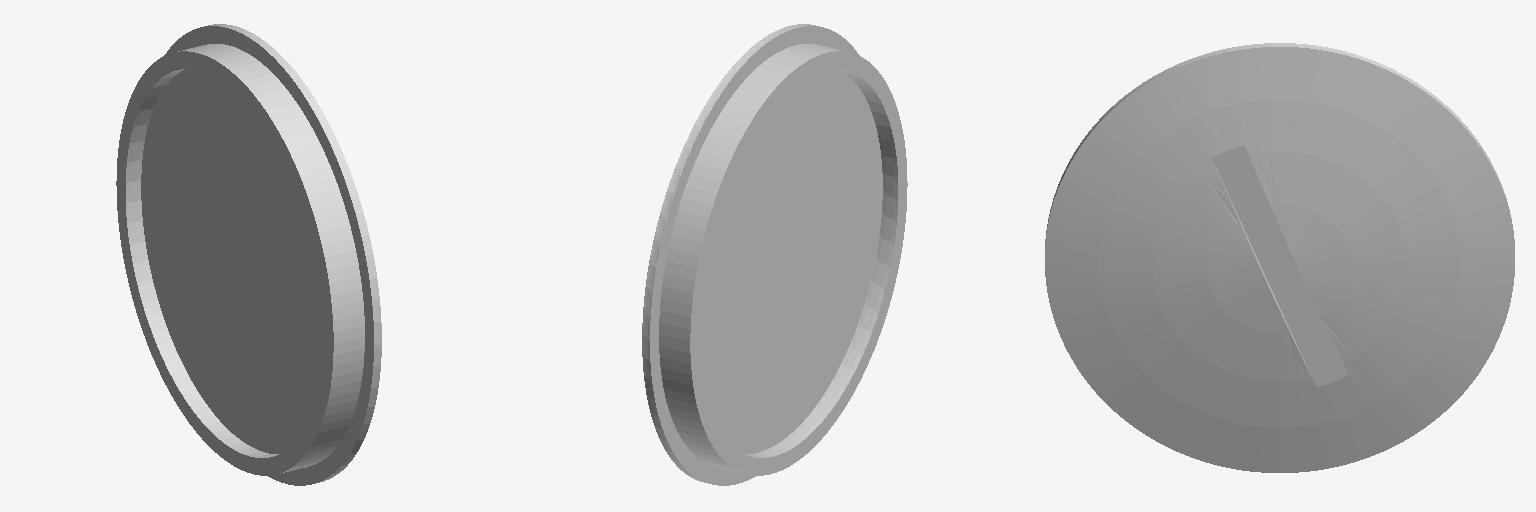
File: cover_TOP.obj
The picture shows the model from 3 angles: view 1: azimuth 30°, elevation 25°; view 2: azimuth 150°, elevation 25°; view 3: azimuth 270°, elevation 25°; orthographic projection.
Parts seen in each view (by area): view 1: cover_TOP; view 2: cover_TOP; view 3: cover_TOP.
Boxes of the visible parts, <box> form: cover_TOP: <box>116,24,381,485</box>; cover_TOP: <box>642,24,907,485</box>; cover_TOP: <box>1045,43,1514,472</box>.
Size of the model in its own units: 3.95 by 26 by 26.